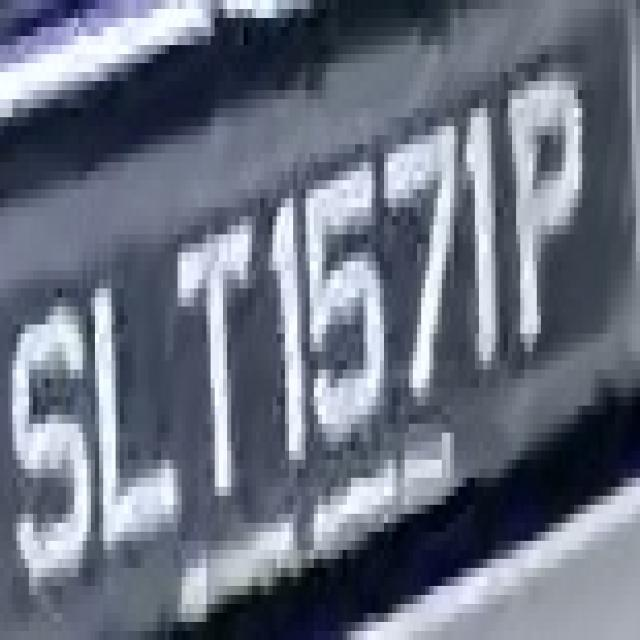1: (260, 135, 310, 487), (446, 126, 508, 397)
5: (293, 135, 380, 478)
7: (364, 126, 458, 460)
L: (83, 270, 190, 568)
P: (500, 72, 594, 388)
S: (4, 279, 91, 586)
T: (157, 234, 260, 505)
